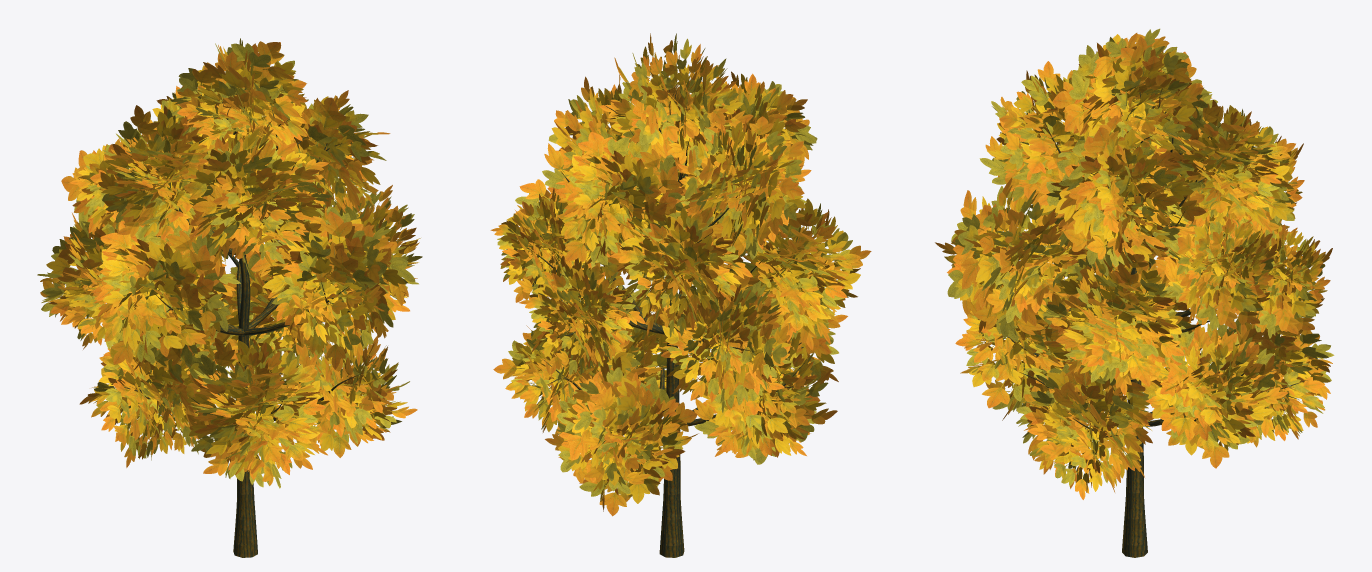
Rendered from tulip_poplar_1 1.fbx.
The picture shows the model from 3 angles, left to right: view 1: azimuth 30°, elevation 25°; view 2: azimuth 150°, elevation 25°; view 3: azimuth 270°, elevation 25°; orthographic projection.
Parts seen in each view (by area): view 1: Plane.001, Plane.013, Plane.014, Plane.009, Plane.007, Plane.010, Plane, Plane.002, Plane.004, Plane.006, tree, Plane.005 (+2 smaller); view 2: Plane.003, Plane.010, Plane.008, Plane.006, Plane.007, Plane.012, Plane.013, Plane.011, Plane, Plane.016, Plane.005, Plane.004 (+5 smaller); view 3: Plane.004, Plane.014, Plane.015, Plane.005, Plane.007, Plane.002, Plane.008, Plane.016, Plane.009, Plane.001, Plane.003, Plane.011 (+3 smaller).
Boxes of the visible parts, left/top/right/bottom form: Plane.001: left=186, top=338, right=329, bottom=488; Plane.013: left=92, top=221, right=240, bottom=370; Plane.014: left=250, top=206, right=415, bottom=369; Plane.009: left=183, top=120, right=331, bottom=276; Plane.007: left=170, top=38, right=311, bottom=164; Plane.010: left=98, top=105, right=219, bottom=245; Plane: left=79, top=325, right=217, bottom=467; Plane.002: left=277, top=323, right=417, bottom=457; Plane.004: left=259, top=90, right=390, bottom=236; Plane.006: left=37, top=212, right=163, bottom=349; tree: left=80, top=89, right=379, bottom=557; Plane.005: left=208, top=251, right=318, bottom=373; Plane.003: left=545, top=367, right=698, bottom=516; Plane.010: left=677, top=116, right=811, bottom=259; Plane.008: left=555, top=131, right=690, bottom=270; Plane.006: left=658, top=274, right=791, bottom=412; Plane.007: left=599, top=33, right=753, bottom=176; Plane.012: left=609, top=206, right=752, bottom=337; Plane.013: left=724, top=196, right=871, bottom=350; Plane.011: left=519, top=258, right=645, bottom=374; Plane: left=693, top=324, right=837, bottom=464; Plane.016: left=490, top=188, right=609, bottom=302; Plane.005: left=493, top=311, right=647, bottom=438; Plane.004: left=542, top=74, right=684, bottom=217; Plane.004: left=1046, top=114, right=1206, bottom=276; Plane.014: left=935, top=178, right=1086, bottom=341; Plane.015: left=1041, top=252, right=1184, bottom=395; Plane.005: left=1142, top=321, right=1288, bottom=468; Plane.007: left=1052, top=28, right=1207, bottom=160; Plane.002: left=1016, top=363, right=1153, bottom=499; Plane.008: left=1160, top=100, right=1295, bottom=240; Plane.016: left=1164, top=217, right=1276, bottom=330; Plane.009: left=979, top=61, right=1108, bottom=213; Plane.001: left=955, top=276, right=1089, bottom=420; Plane.003: left=1203, top=318, right=1334, bottom=447; Plane.011: left=1233, top=224, right=1332, bottom=338.
Size of the model in its own units: 507 by 684 by 511.
